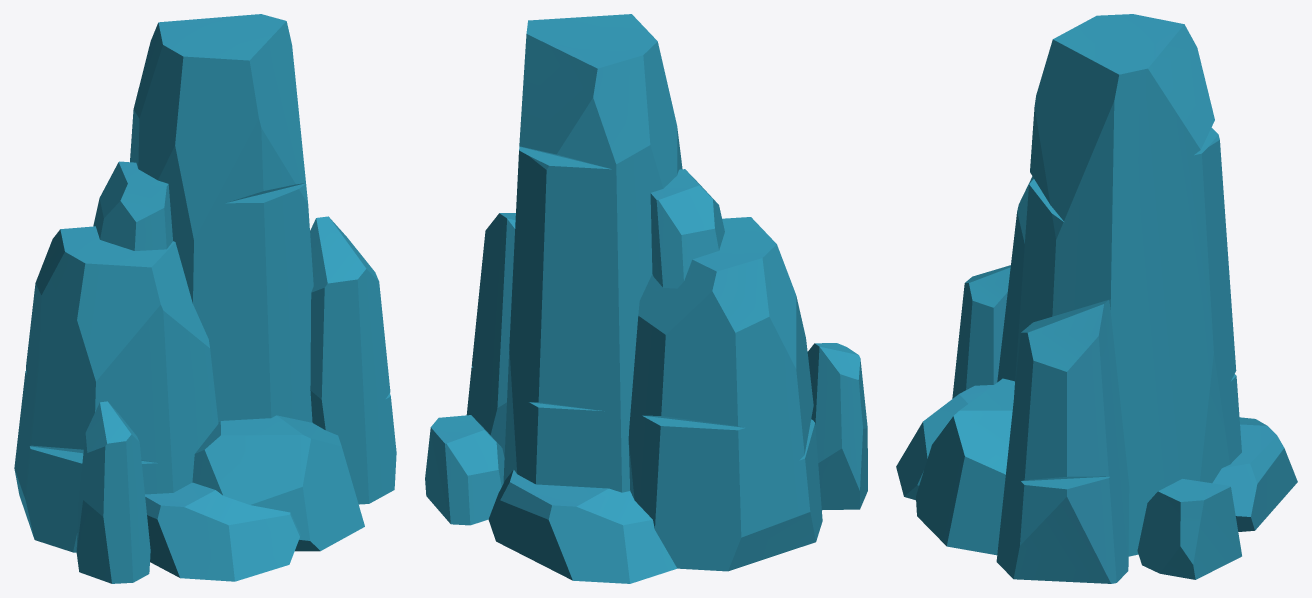
Rendered from mountain.fbx.
3 views of the same model, side by side, from view 1: azimuth 30°, elevation 25°; view 2: azimuth 150°, elevation 25°; view 3: azimuth 270°, elevation 25° (orthographic). The views are drawn at different scales.
Visible parts, largest first — view 1: big_rock_04; view 2: big_rock_04; view 3: big_rock_04.
Part boxes in pixels (box(x1,y1,x2,y2)): big_rock_04: box(14, 14, 396, 583); big_rock_04: box(425, 14, 867, 583); big_rock_04: box(896, 14, 1297, 583).
Size of the model in its own units: 347 by 435 by 334.
Materials: 1 (1 with a texture image).
